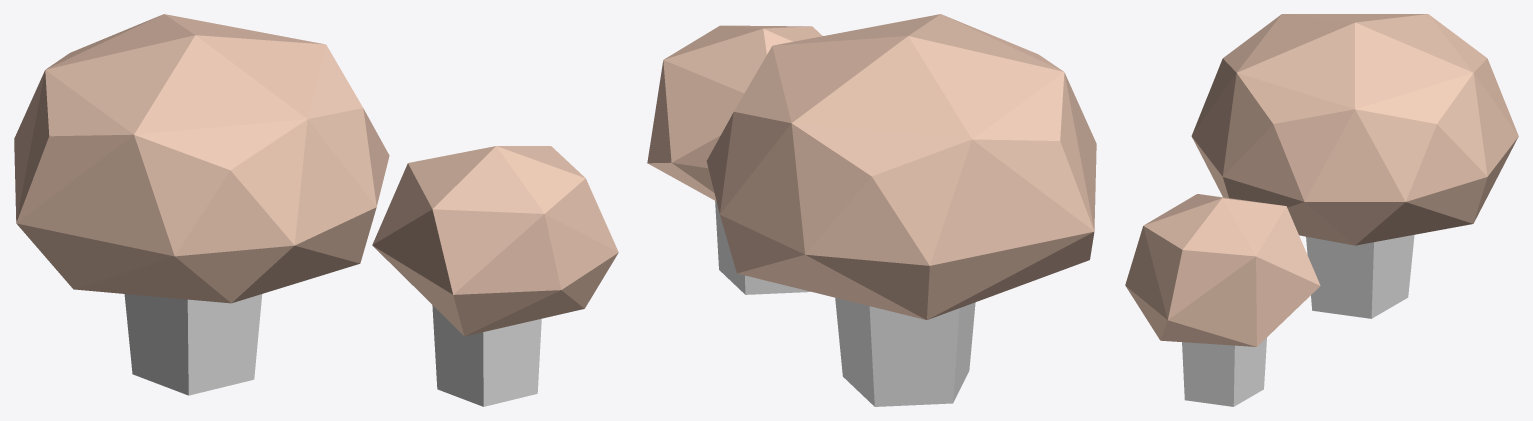
File: Mushroom_g_03.fbx
The picture shows the model from 3 angles, left to right: view 1: azimuth 30°, elevation 25°; view 2: azimuth 150°, elevation 25°; view 3: azimuth 270°, elevation 25°; orthographic projection. The views are drawn at different scales.
Parts seen in each view (by area): view 1: Mushroom_g_03; view 2: Mushroom_g_03; view 3: Mushroom_g_03.
Boxes of the visible parts, box(x1,y1,x2,y2) form: Mushroom_g_03: box(14, 14, 618, 406); Mushroom_g_03: box(647, 14, 1096, 406); Mushroom_g_03: box(1125, 14, 1518, 406).
Bounding box in the file's own units: 30.94 × 20.6 × 26.11.
